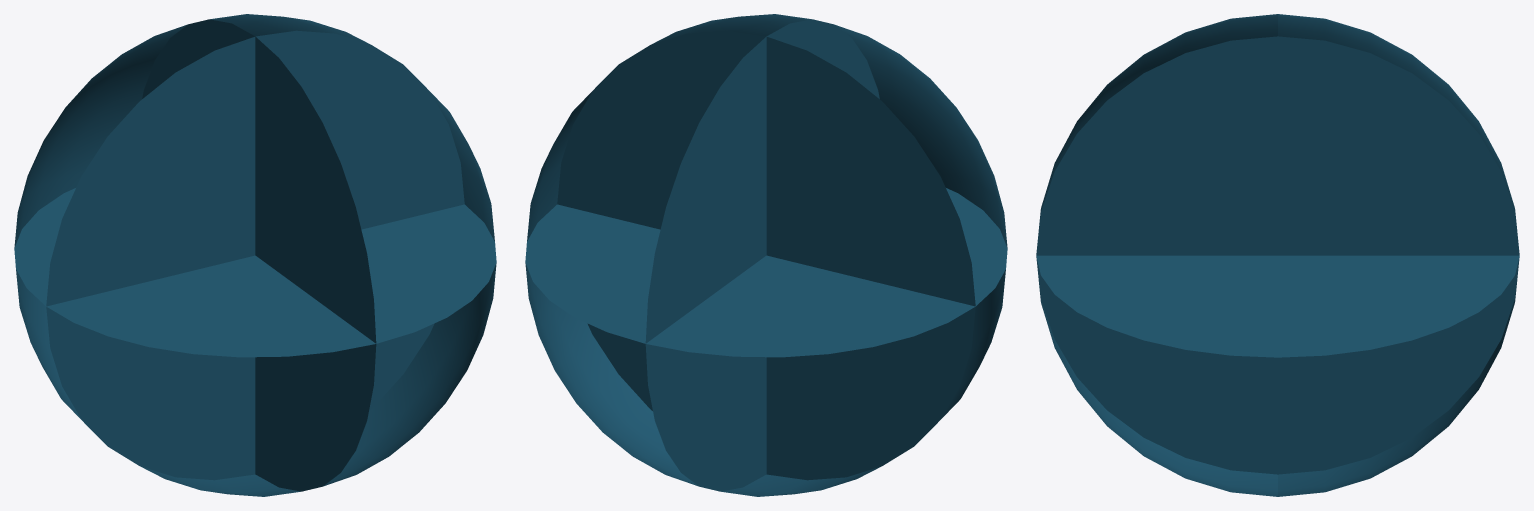
File: xiaoqiu2.gltf
The picture shows the model from 3 angles, left to right: view 1: azimuth 30°, elevation 25°; view 2: azimuth 150°, elevation 25°; view 3: azimuth 270°, elevation 25°; orthographic projection.
Parts seen in each view (by area): view 1: 对象187; view 2: 对象187; view 3: 对象187.
Boxes of the visible parts, bbox=[...] form: 对象187: bbox=[14, 14, 496, 496]; 对象187: bbox=[525, 14, 1007, 496]; 对象187: bbox=[1036, 14, 1519, 496].
Size of the model in its own units: 22 by 22 by 22.
Materials: 1 (1 with a texture image).
